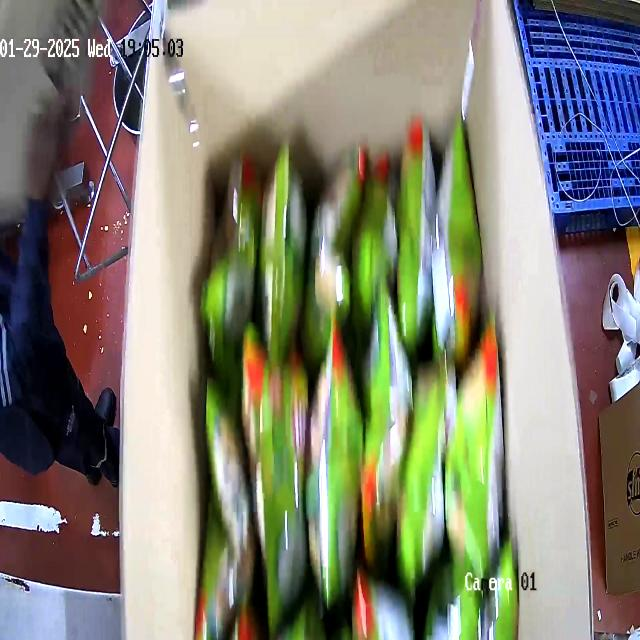YOGURT_HERB: (195, 108, 512, 637)
